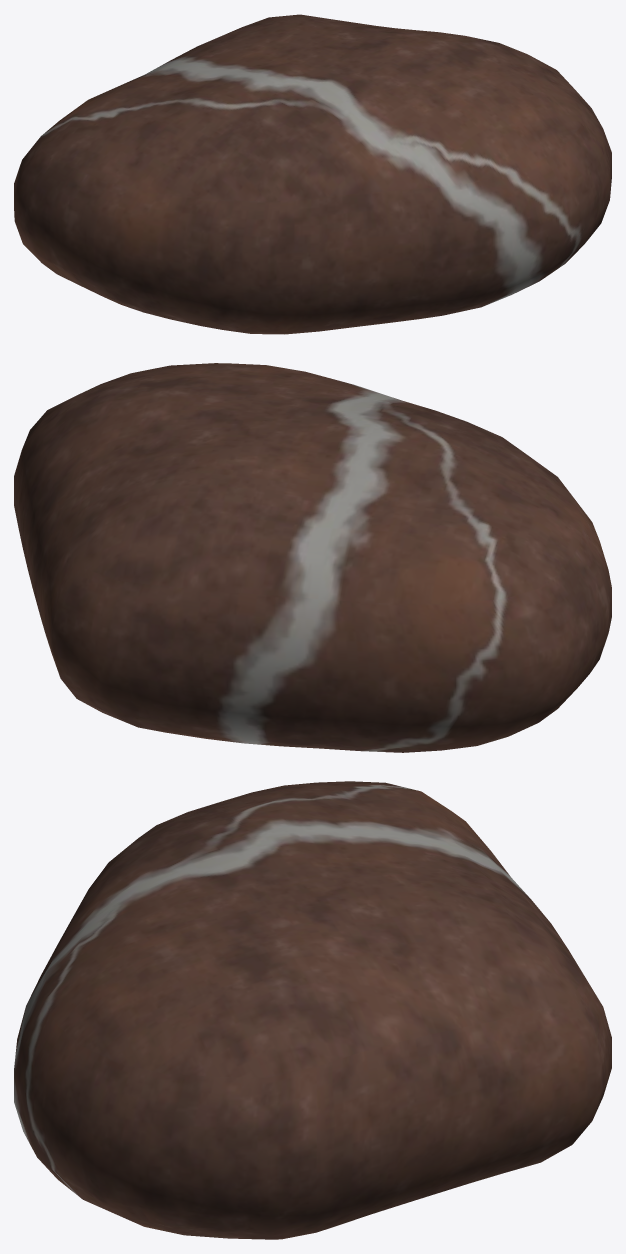
Rendered from quartz_cobble_06.glb.
3 views of the same model, one above another, from view 1: azimuth 30°, elevation 25°; view 2: azimuth 150°, elevation 25°; view 3: azimuth 270°, elevation 25° (orthographic). The views are drawn at different scales.
Parts seen in each view (by area): view 1: quartz_cobble_06; view 2: quartz_cobble_06; view 3: quartz_cobble_06.
Part boxes in pixels (box(x1,y1,x2,y2)): quartz_cobble_06: box(14, 14, 611, 334); quartz_cobble_06: box(14, 363, 611, 752); quartz_cobble_06: box(14, 781, 611, 1239).
Size of the model in its own units: 0.0676 by 0.0292 by 0.053.
Materials: 1 (1 with a texture image).
